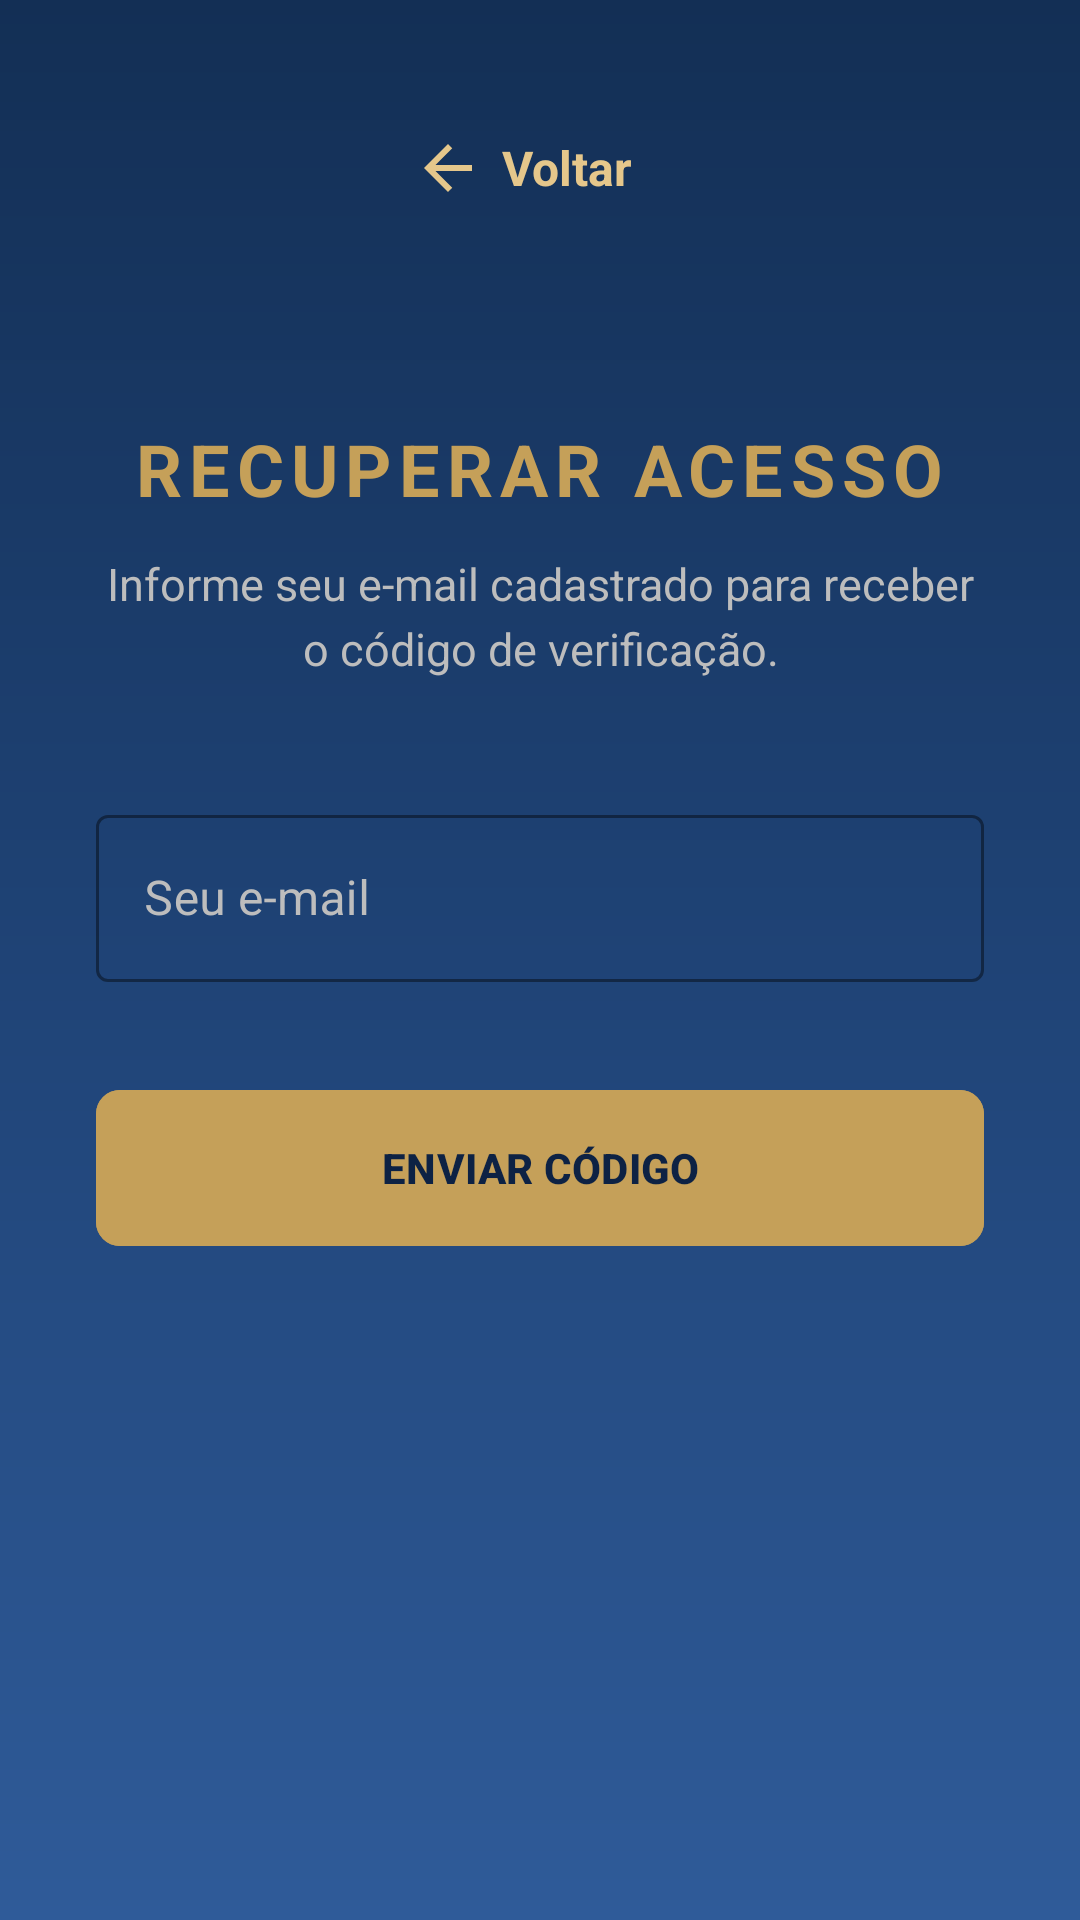

Icon click points for this 1080×1920 phone screenshot, format (x=x, y=y):
arrow back yarooms: (x=448, y=168)
